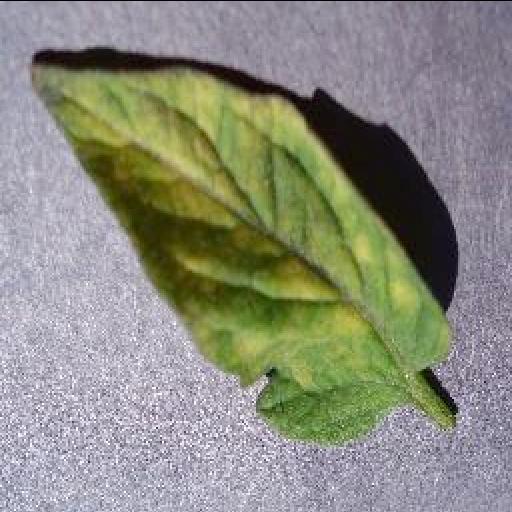disease_tomato: (26, 62, 458, 440)
